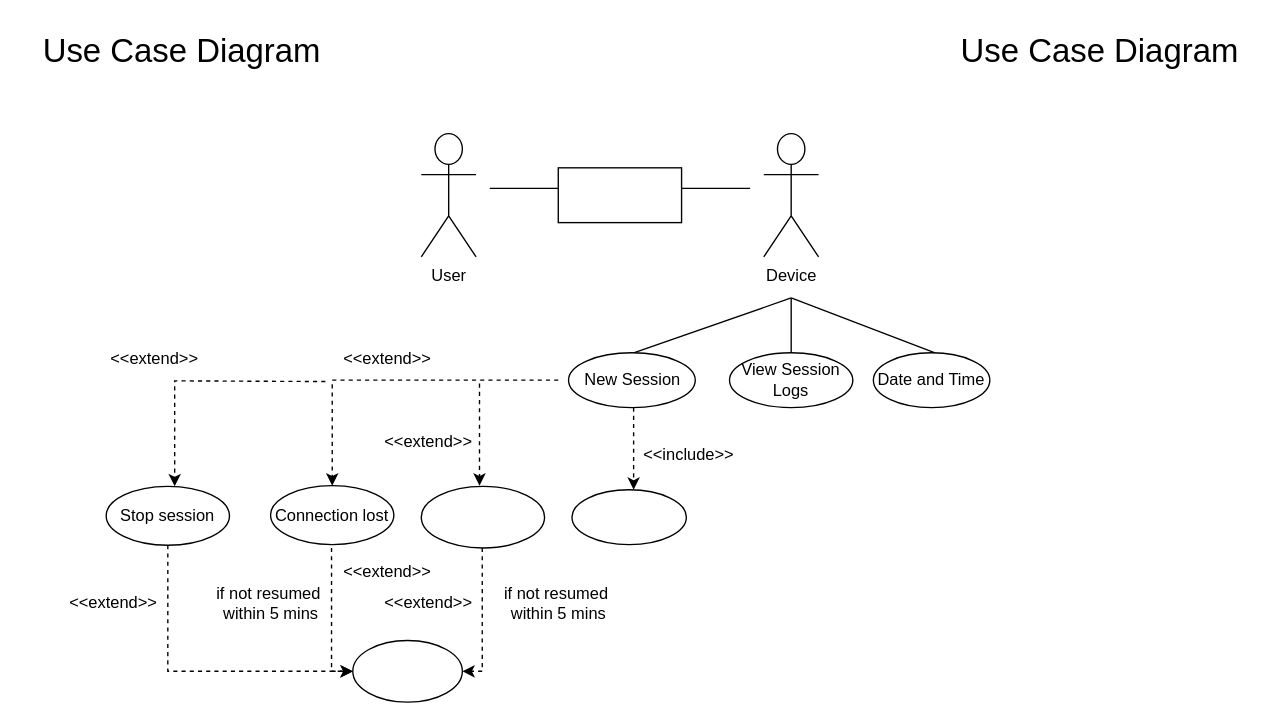
The diagram is 1280 pixels wide and 726 high, and some of its shapes have lost their labels. Each missing label, with the box of its shape:
Controls the device: (557, 166, 682, 223)
Deliver treatments: (571, 488, 686, 545)
End session, remove log: (351, 639, 462, 702)
Pause session: (420, 485, 545, 548)
